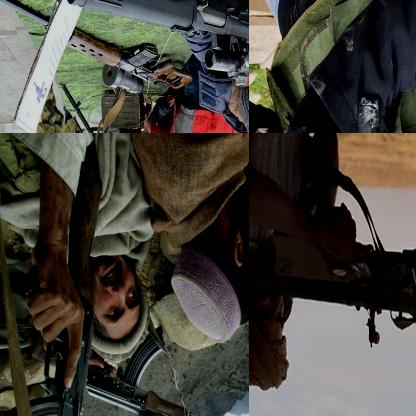rifle: (0, 145, 105, 415), (249, 223, 415, 369), (0, 0, 248, 92), (0, 0, 189, 96), (32, 332, 248, 415), (65, 109, 149, 132)
